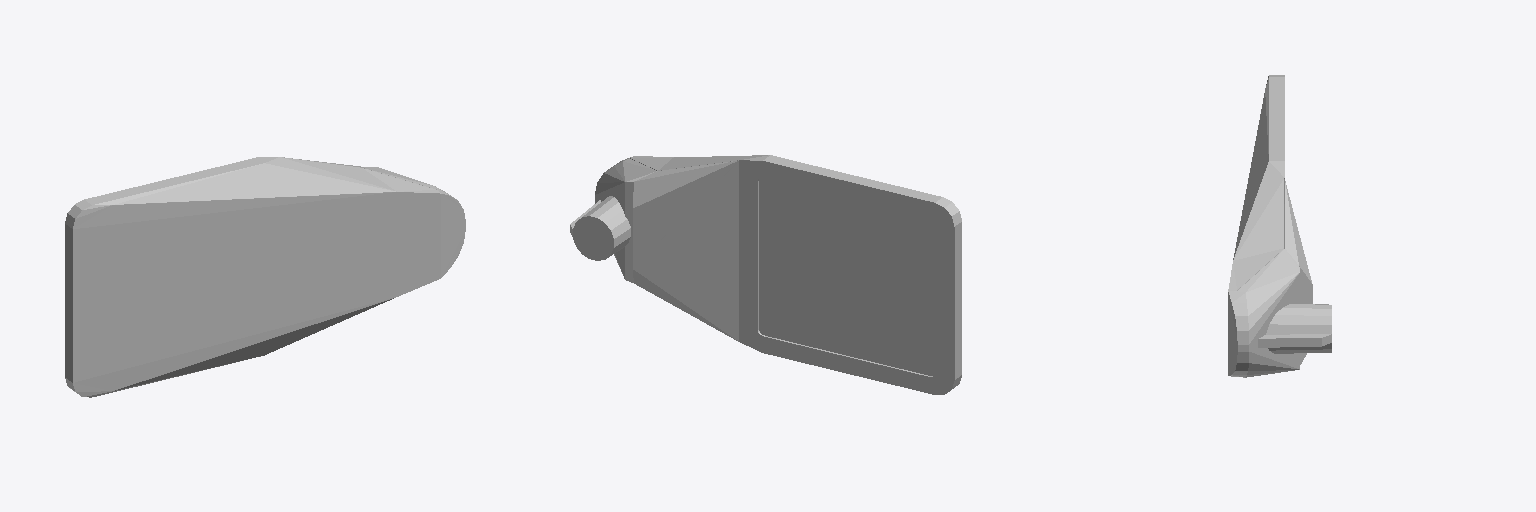
The model's file is Alfons_II.obj.
3 renders of one model, left to right at view 1: azimuth 30°, elevation 25°; view 2: azimuth 150°, elevation 25°; view 3: azimuth 270°, elevation 25°, orthographic.
Visible parts, largest first — view 1: Cube.001; view 2: Cube.001, Cylinder; view 3: Cube.001, Cylinder.
Boxes of the visible parts, x1=… form: Cube.001: x1=65, y1=157, x2=465, y2=397; Cube.001: x1=595, y1=155, x2=961, y2=394; Cylinder: x1=570, y1=196, x2=630, y2=260; Cube.001: x1=1228, y1=75, x2=1312, y2=377; Cylinder: x1=1258, y1=304, x2=1331, y2=353.
Bounding box in the file's own units: 0.7377 × 0.359 × 0.175.